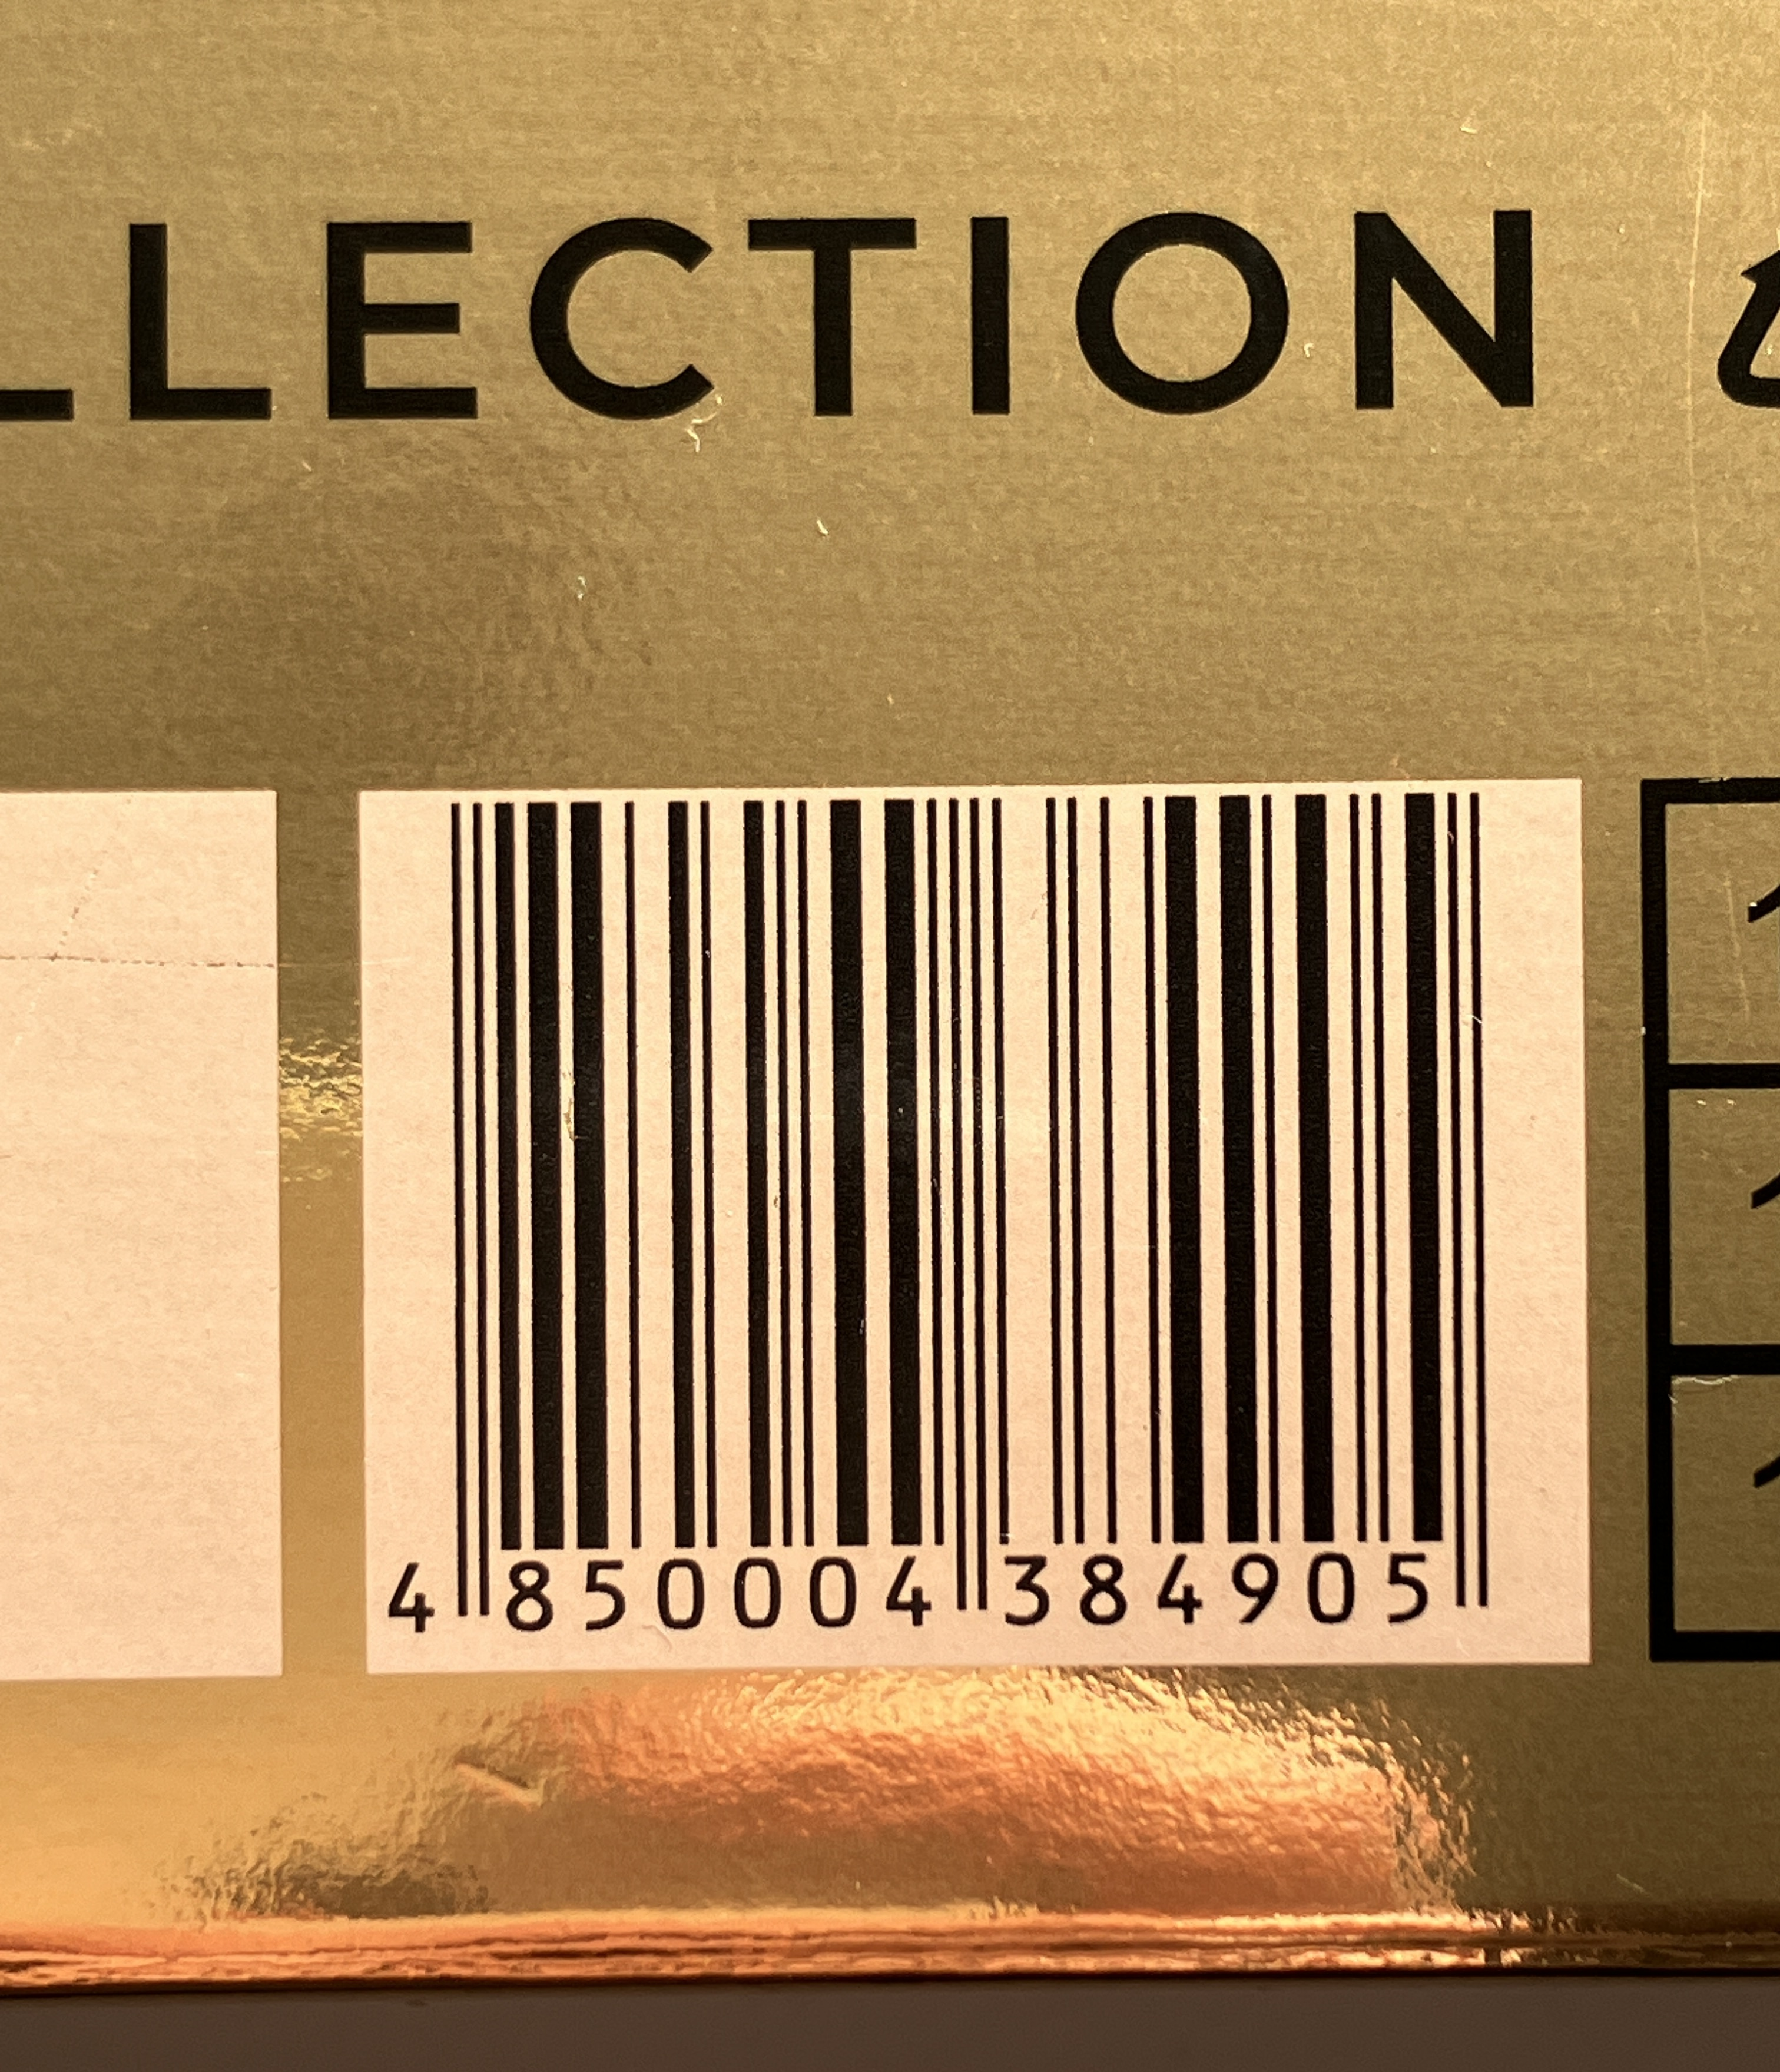1d: (453, 795, 1489, 1617)
